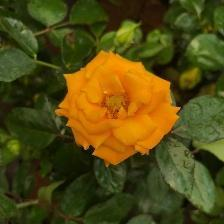rose: (55, 50, 183, 163)
